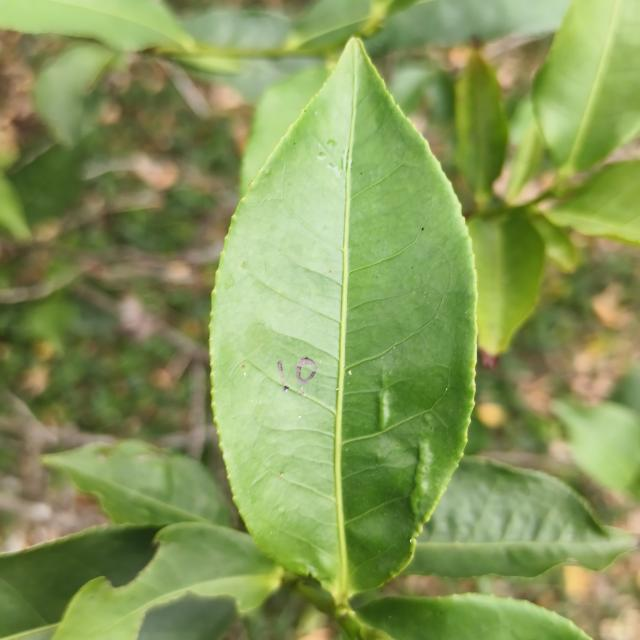Leaf: (211, 39, 476, 602), (403, 456, 635, 578), (54, 523, 283, 640), (533, 0, 640, 177), (0, 524, 159, 640), (44, 440, 231, 527), (467, 210, 544, 363), (357, 594, 590, 640), (0, 0, 195, 51), (455, 48, 508, 210), (552, 400, 640, 497), (33, 44, 115, 146), (544, 161, 640, 244), (288, 0, 416, 48), (12, 145, 83, 224), (138, 594, 237, 640)
